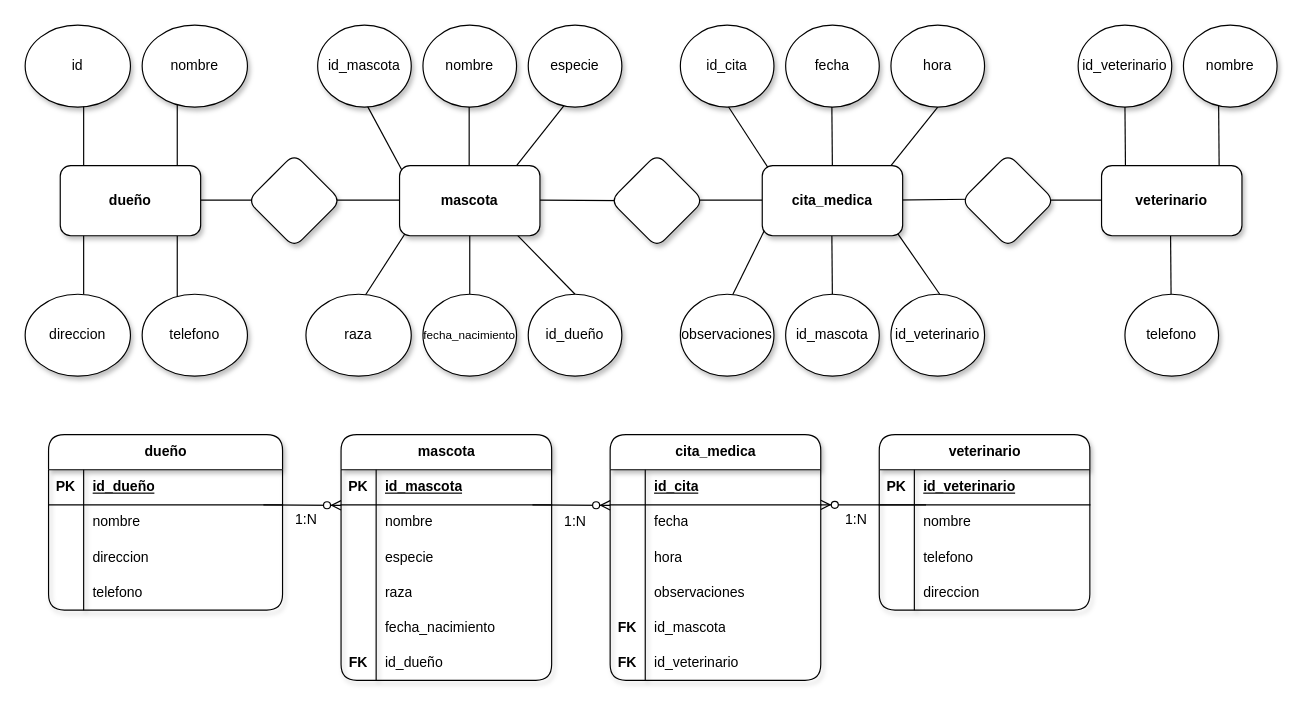
Image size: 1305x709. Some labels were removed from this diagram. The shapes that lost their labels are listed below. From the top down, each one's centre as x and y in pixels, then its label:
(295,202): tiene
(657,202): lleva
(1008,202): atiende
